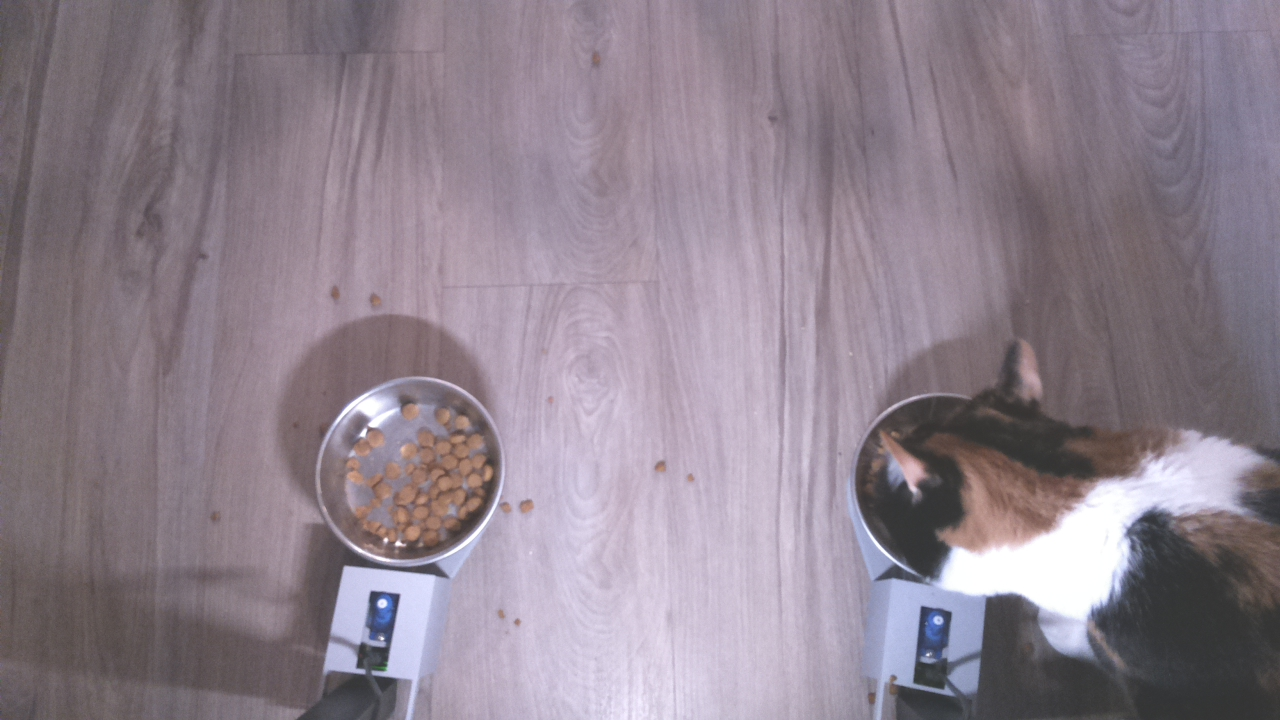bella_eating: (854, 336, 1135, 596)
open_bowl: (311, 370, 507, 570)
